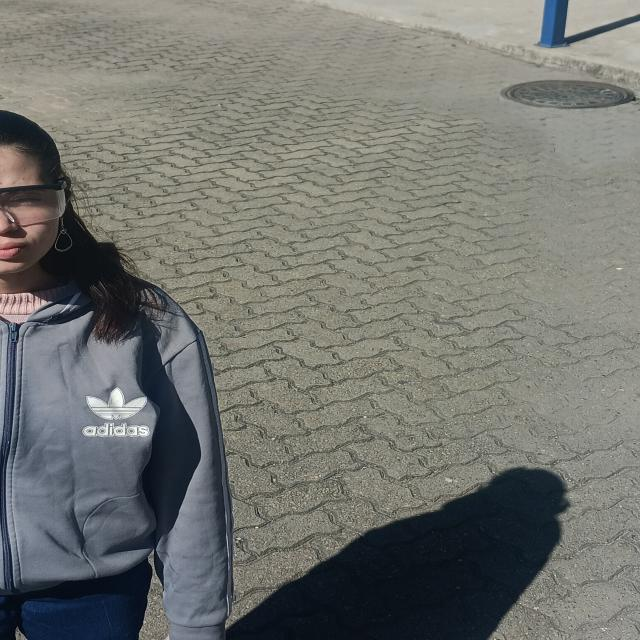oculos-epi: (0, 180, 66, 226)
